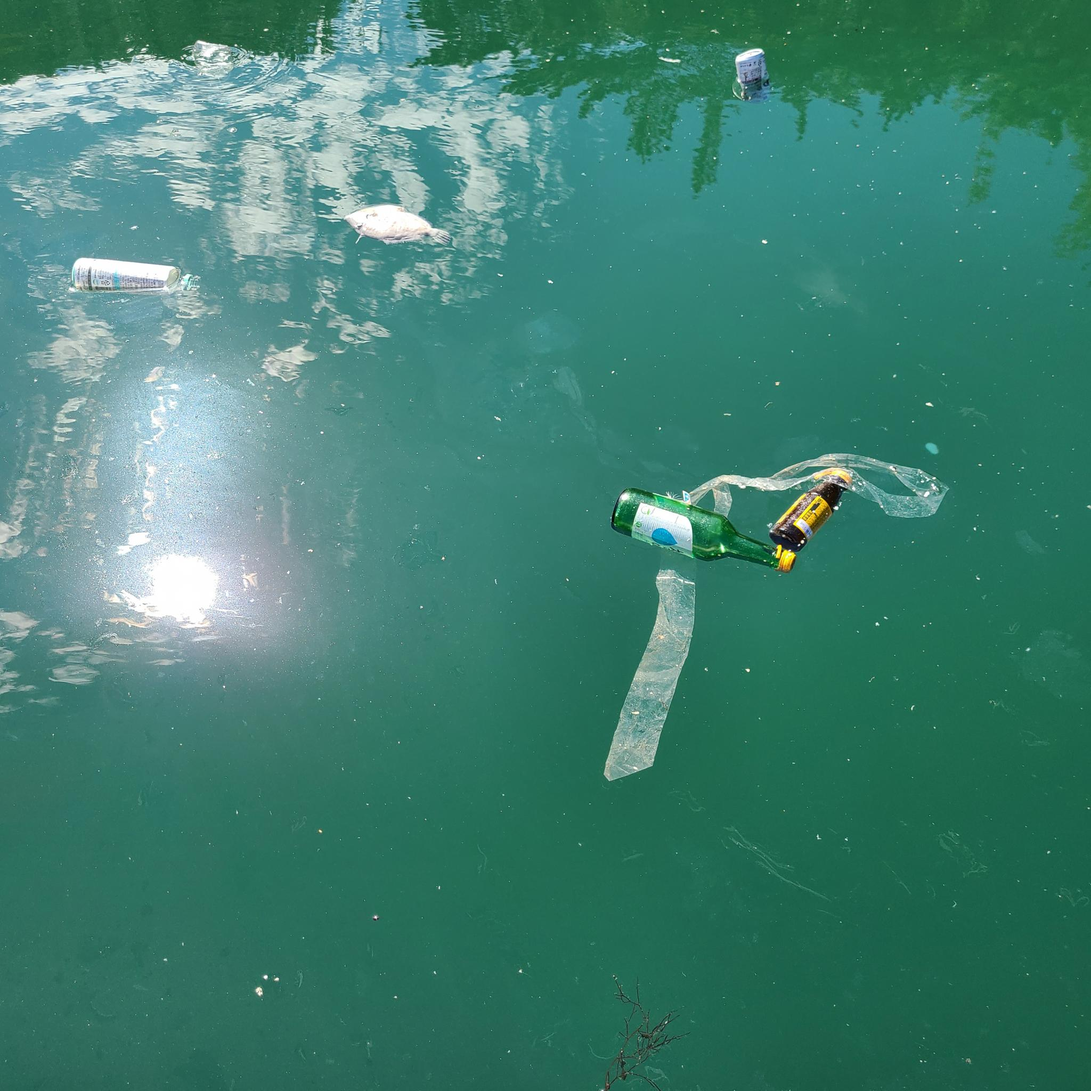sampah_terapung: (612, 488, 797, 573), (769, 470, 853, 552), (72, 258, 202, 296), (736, 48, 771, 103)
